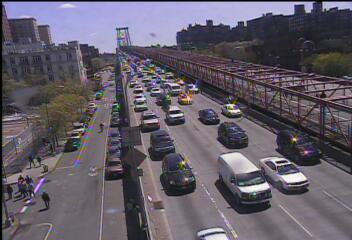neg: (160, 100, 177, 124), (301, 27, 317, 49), (31, 82, 46, 102), (56, 100, 67, 115), (92, 182, 102, 195), (213, 199, 223, 212), (270, 14, 279, 26), (292, 100, 301, 112), (200, 32, 208, 44), (175, 39, 183, 51), (97, 121, 105, 131), (150, 198, 157, 207), (256, 36, 263, 45), (190, 123, 196, 132), (127, 77, 133, 85), (124, 166, 130, 173), (86, 76, 92, 83), (128, 36, 133, 43), (286, 193, 291, 199), (217, 65, 221, 71), (224, 14, 227, 18)
pos: (1, 180, 16, 202), (37, 188, 53, 208), (13, 171, 27, 189), (24, 183, 36, 200), (22, 172, 34, 189), (17, 181, 29, 196), (26, 152, 37, 167), (37, 134, 47, 148), (33, 154, 43, 166)
